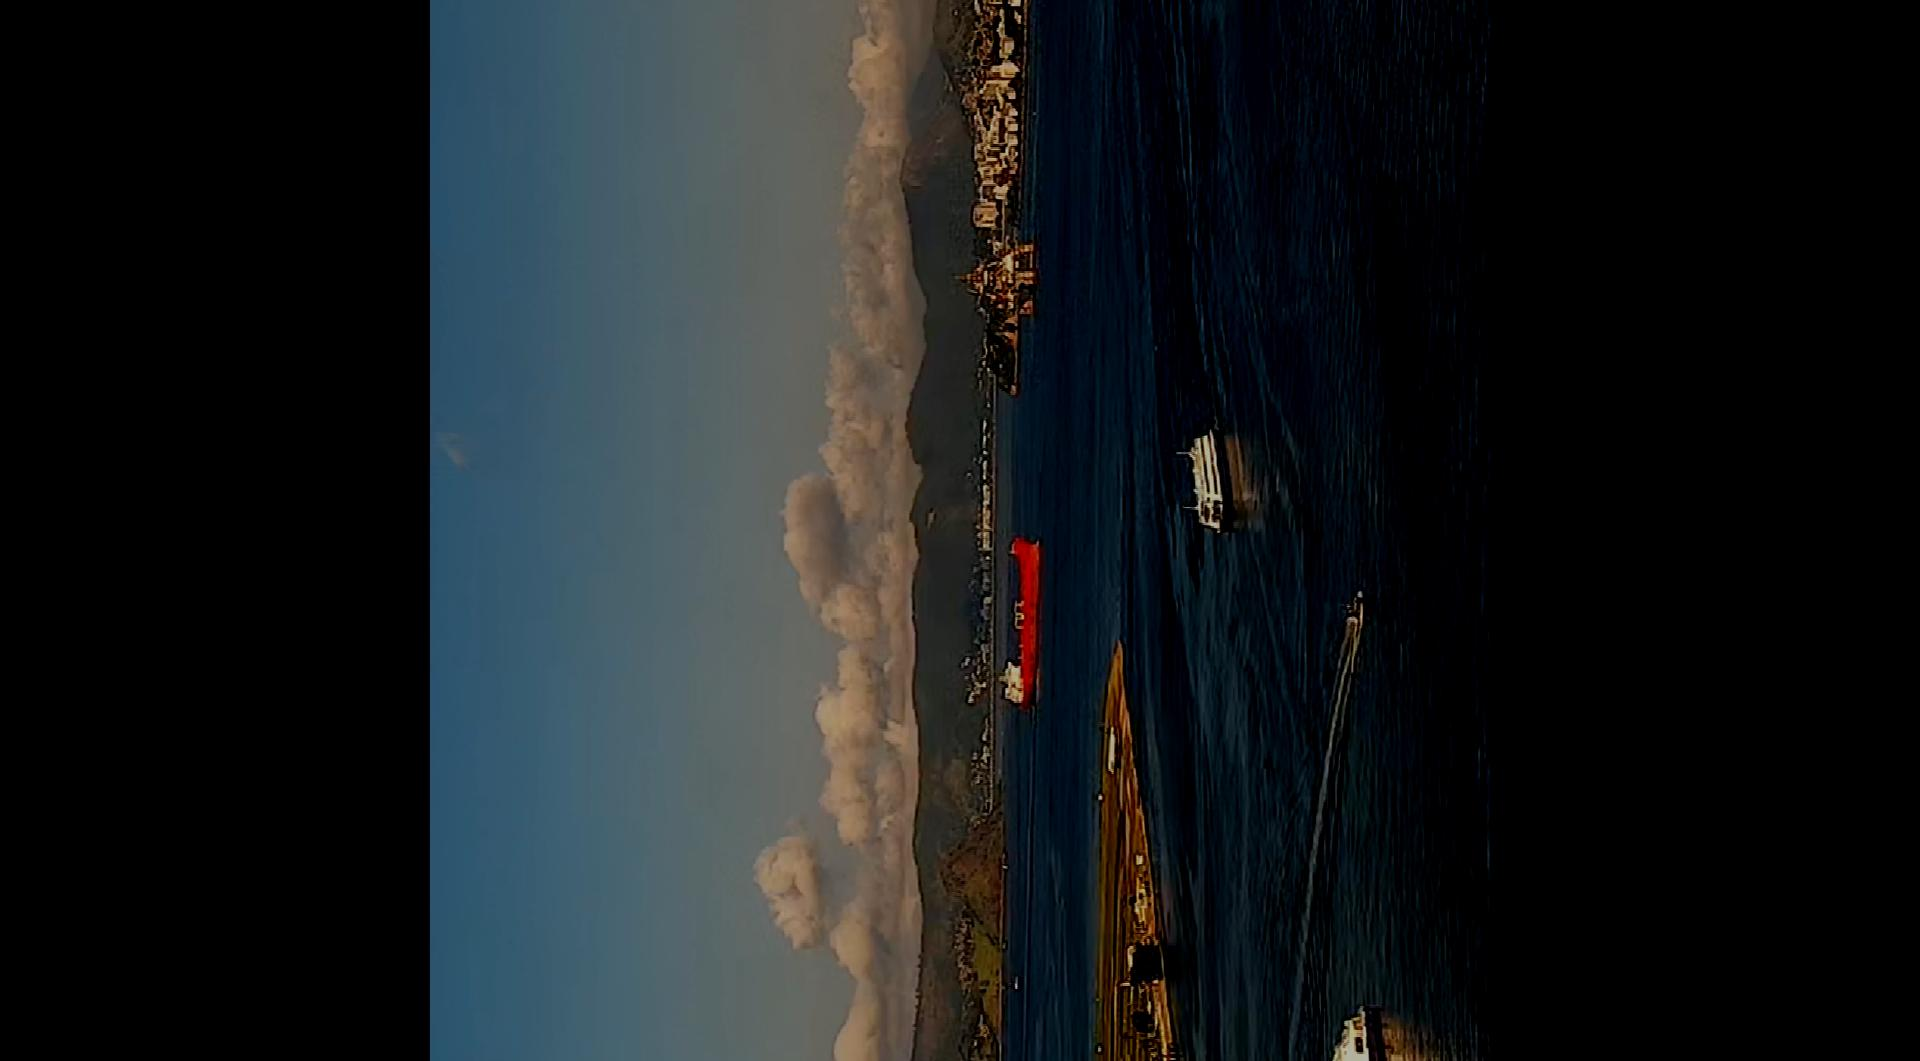Ship1: (1172, 422, 1238, 536), (1301, 1004, 1409, 1060)
Ship2: (990, 533, 1044, 712)
Ship6: (1341, 584, 1368, 625)
